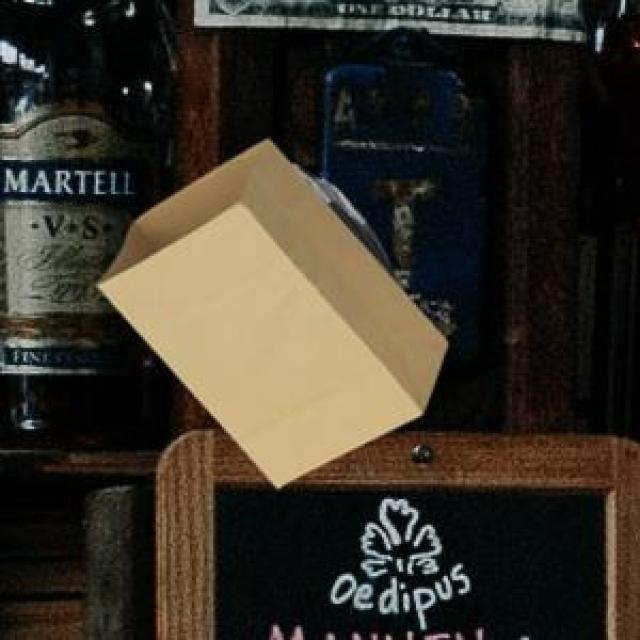miscellaneous trash: (289, 160, 448, 320)
paper: (94, 134, 444, 484)
